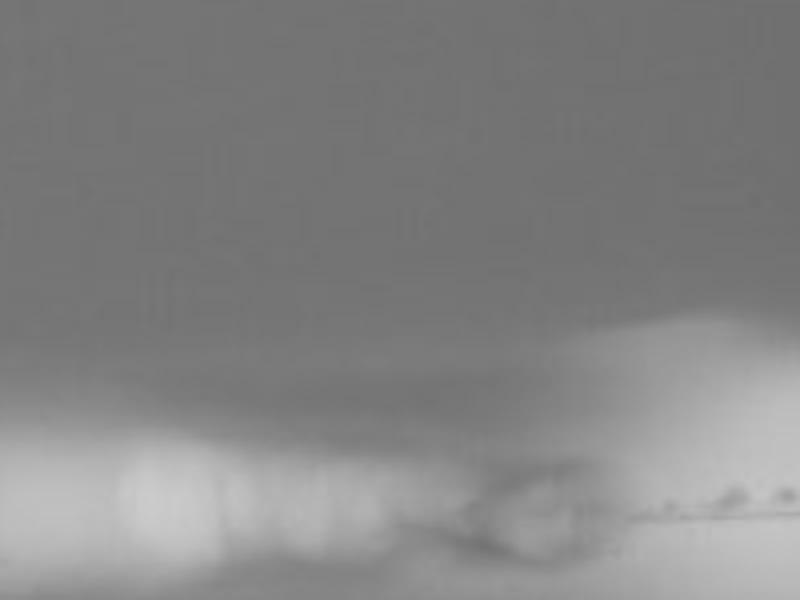defect: (714, 478, 748, 513), (776, 484, 800, 508), (663, 494, 682, 514)
